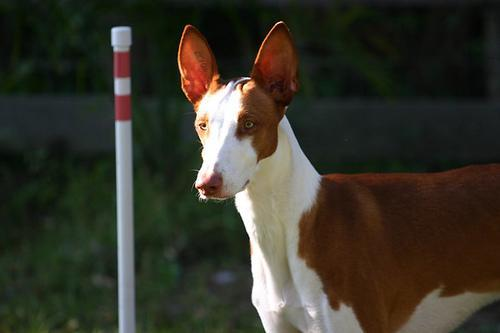Ibizan_hound: (177, 19, 499, 332)
